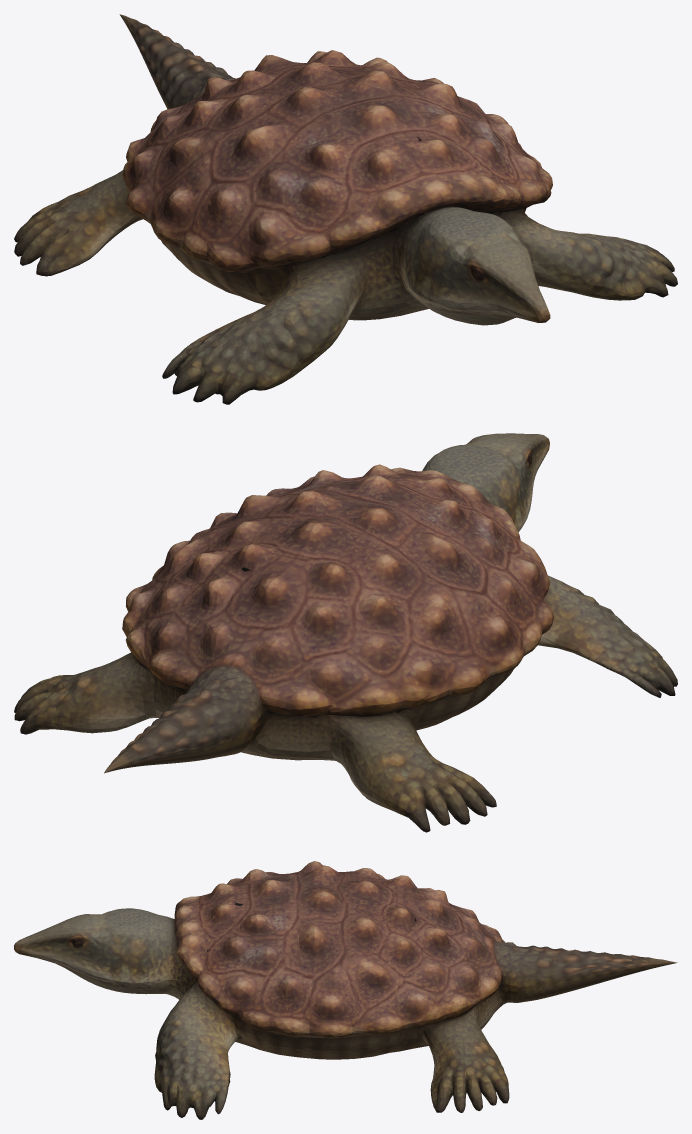
3 views of the same model, one above another, from view 1: azimuth 30°, elevation 25°; view 2: azimuth 150°, elevation 25°; view 3: azimuth 270°, elevation 25° (orthographic). The views are drawn at different scales.
Parts seen in each view (by area): view 1: Placochelys tail repair candidate 04; view 2: Placochelys tail repair candidate 04; view 3: Placochelys tail repair candidate 04.
Part boxes in pixels (x1,y1,x2,y2): Placochelys tail repair candidate 04: (14,14,677,404); Placochelys tail repair candidate 04: (14,433,677,832); Placochelys tail repair candidate 04: (14,861,677,1119).
Size of the model in its own units: 0.6009 by 0.2289 by 0.9.
2 materials, 2 textured.
